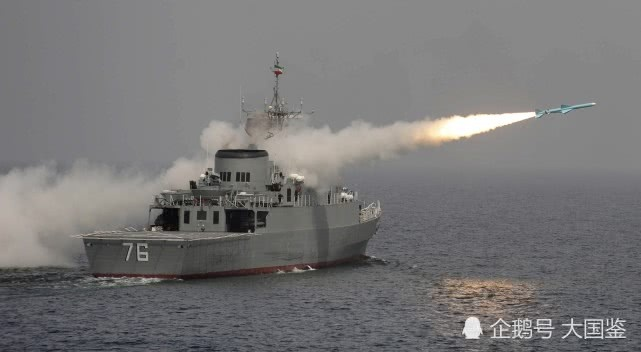warship: (84, 47, 385, 275)
